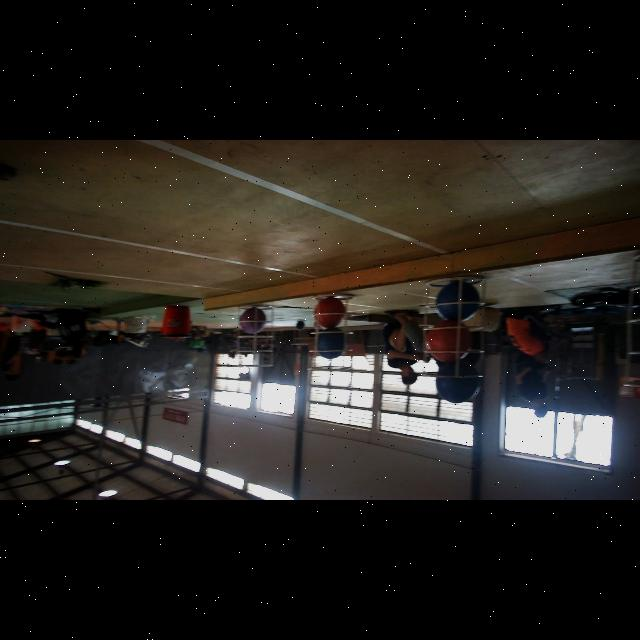B: (437, 361, 481, 404), (436, 280, 479, 322), (316, 330, 348, 360)
R: (426, 320, 470, 360), (317, 298, 347, 328)
